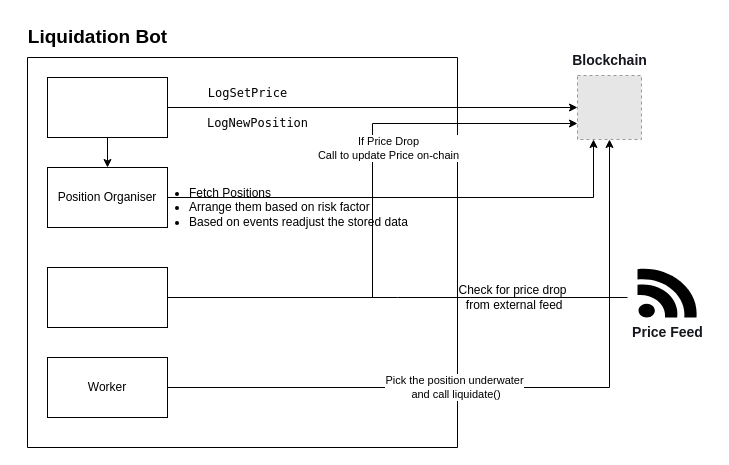
This 729x465 diagram has some shape labels left out. Grey dashed boxes stand in for pictures. Here are the shapes that lost their labels. From the top down, the centre of each, then its label:
At [107,107]: "Event Listner".
At [107,297]: "PriceCheck".
